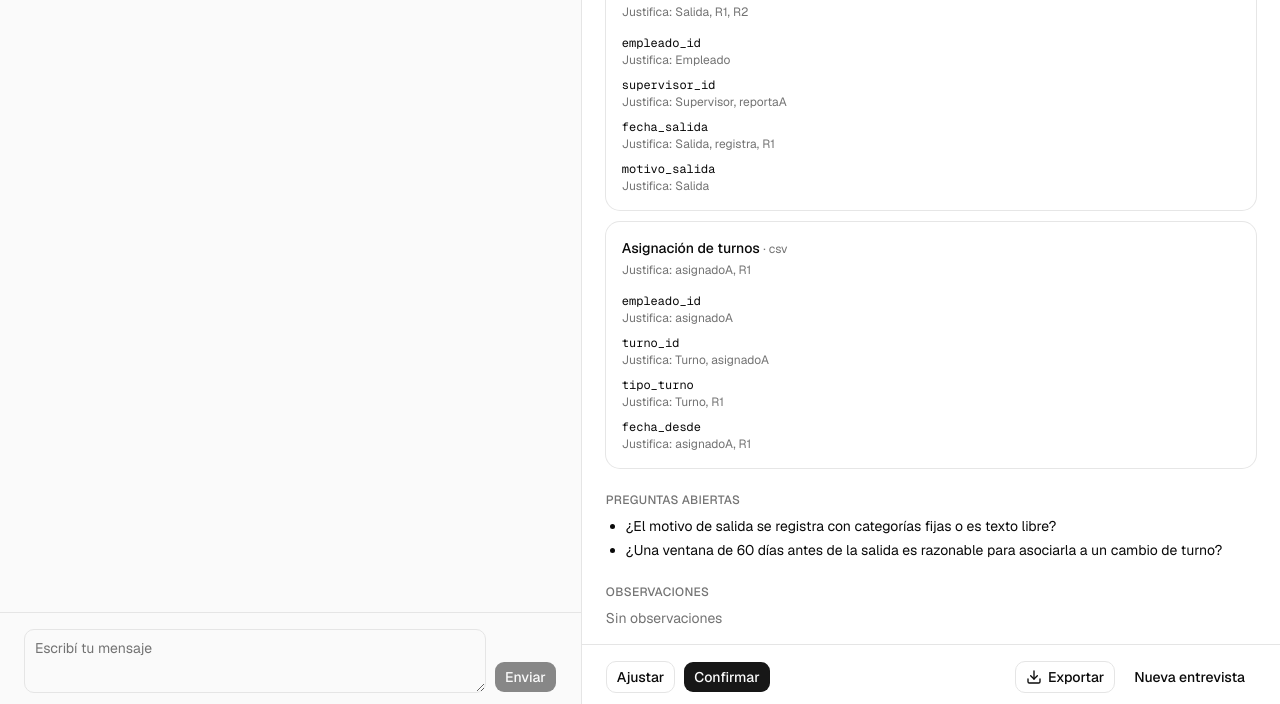
Test: SpecPanel › Confirmar pasa a borde de 2 px y Reabrir vuelve a esperar confirmación
This screenshot has width=1280, height=704.
(page scrolled)
Click the button "Confirmar": coordinates (727, 677) [683,661,771,693]
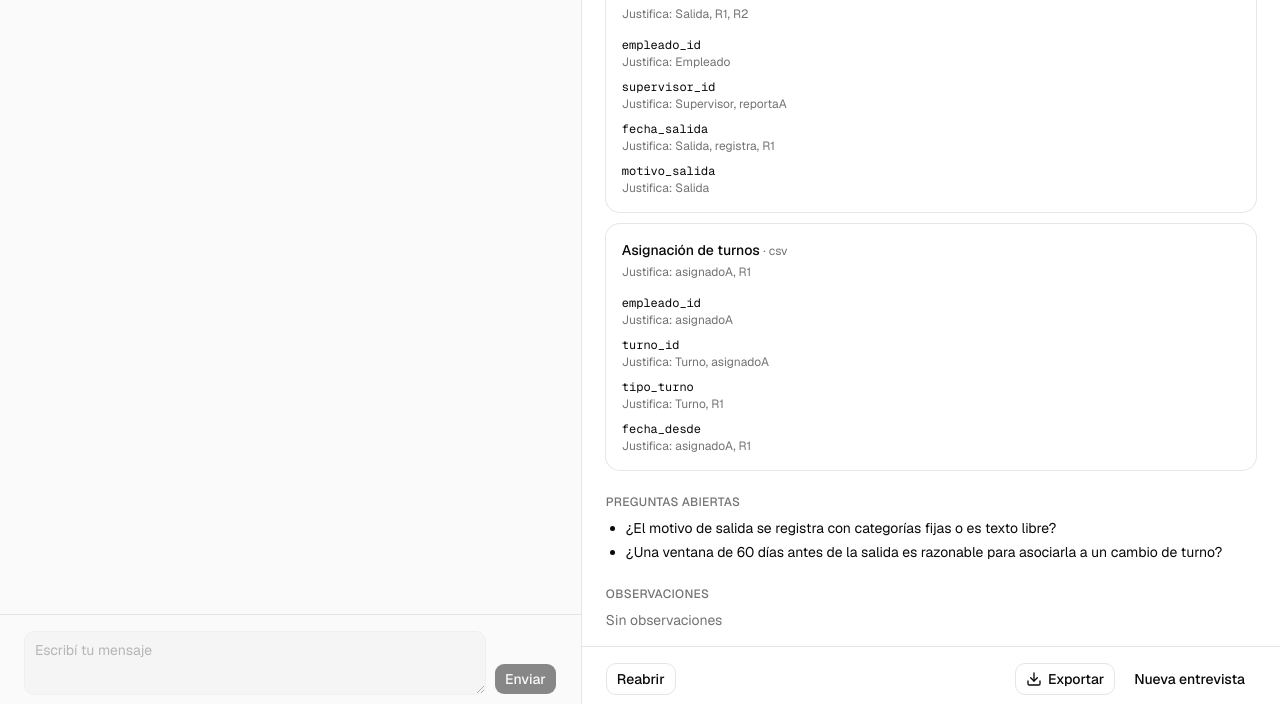
Expected: the text box is disabled, [24,631,486,695]
Expected: the button "Ajustar" is gone
Click the button "Reabrir": coordinates (641, 679) [606,663,676,695]
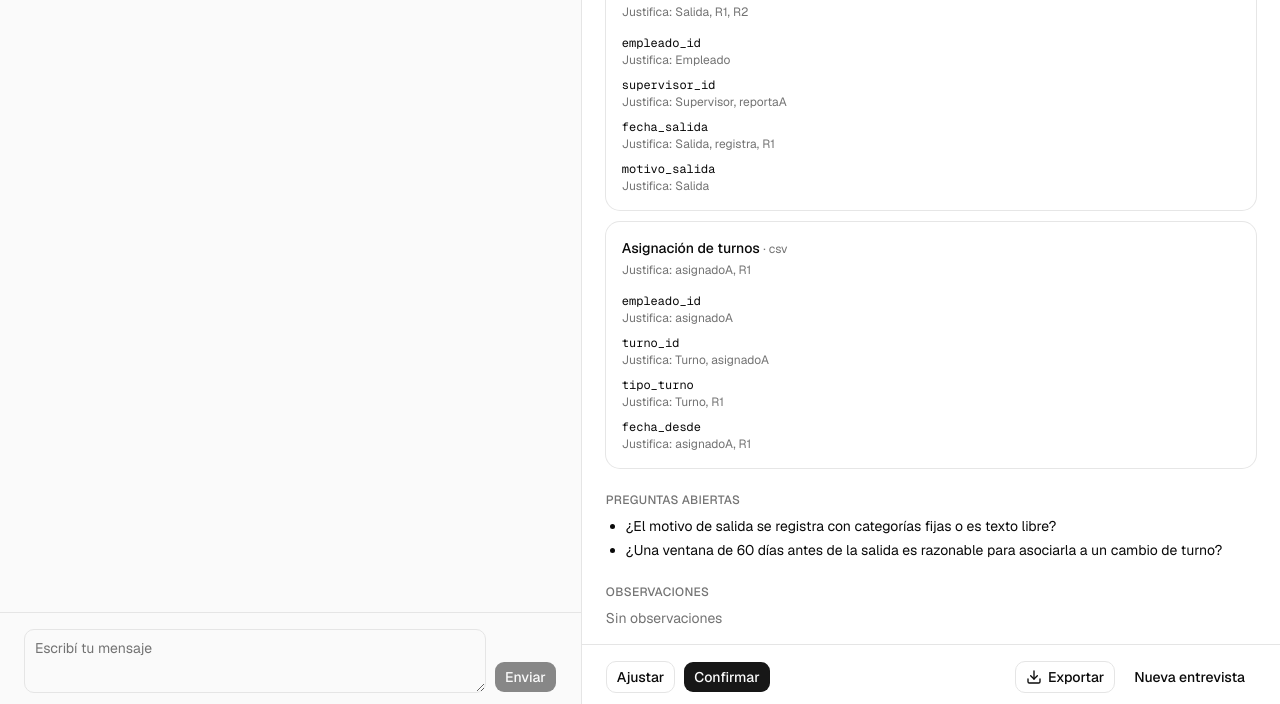
Expected: the text box is enabled, [24,629,486,693]
